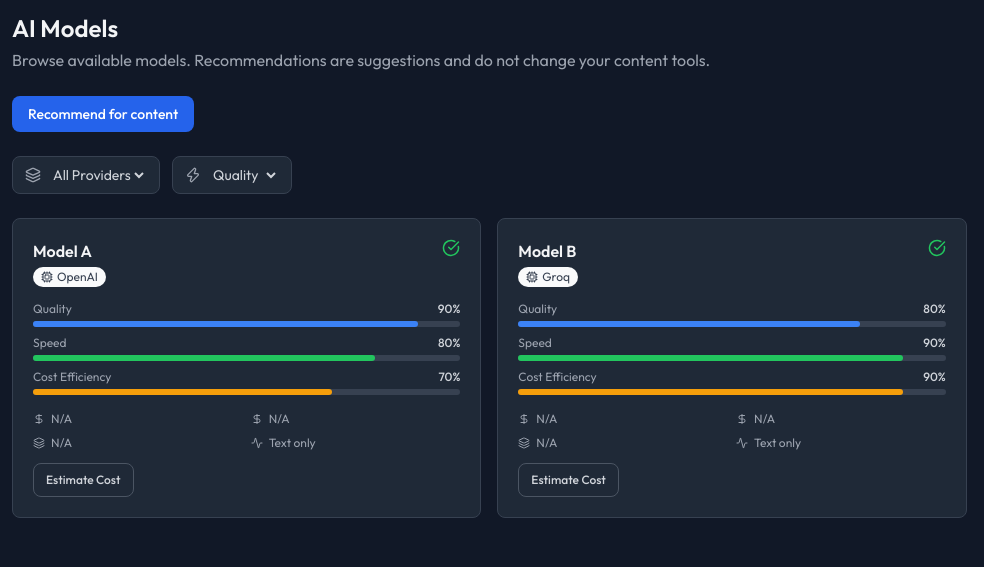
Scenario: AI model recommendation contract › does not present an invalid API response as a successful recommendation
Click the button "Recommend for content": (103, 114) [12,96,194,132]
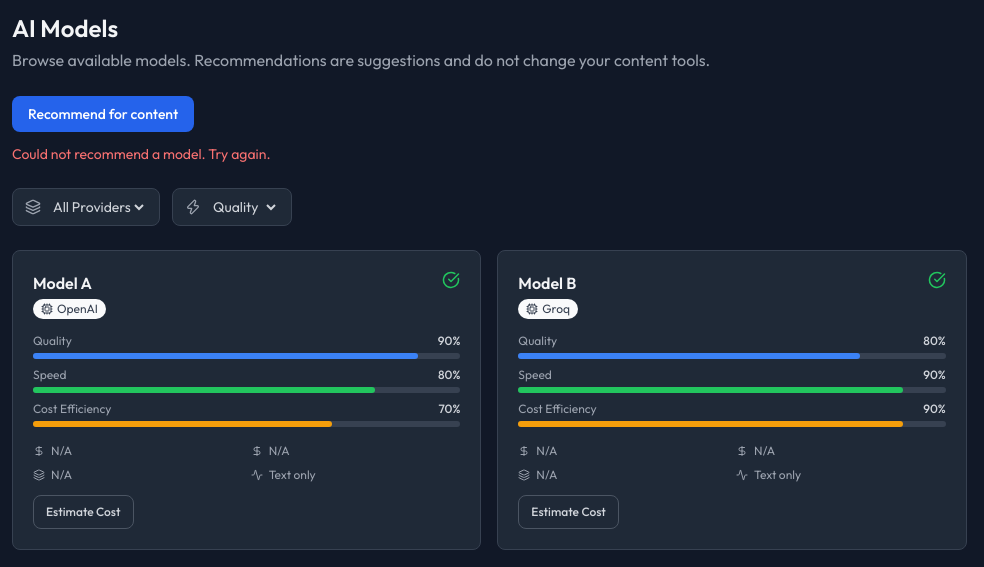
Check: the message shows "Could not recommend", box [12,145,270,163]
